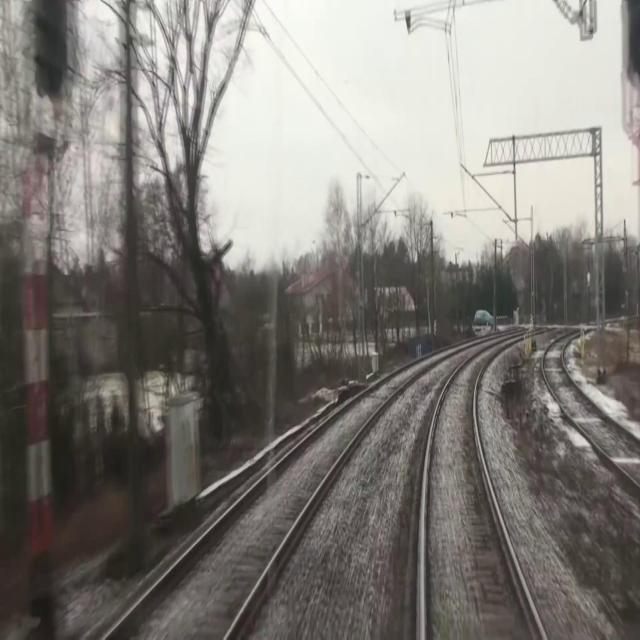rail-track: (106, 348, 452, 639), (425, 343, 542, 639), (544, 337, 640, 482)
